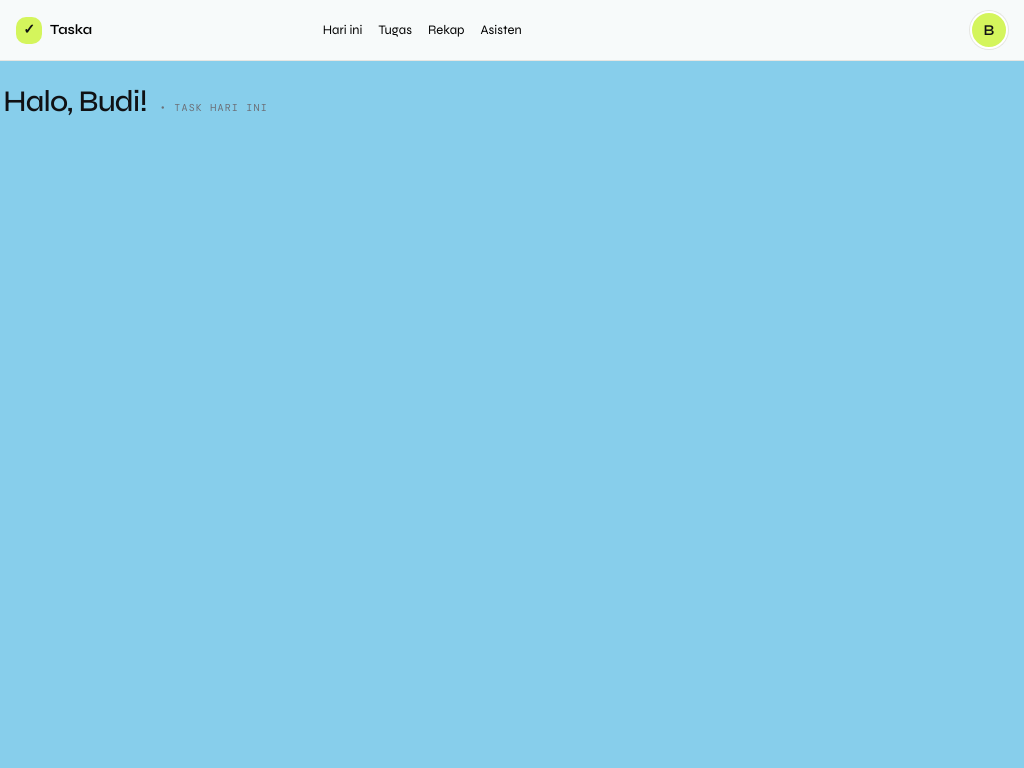
Dashboard › Pengaturan profil membuka dialog berisi nama dan alamat email
This screenshot has width=1024, height=768.
Click the button named "menu profil".
click(989, 30)  # box x1=970 y1=11 x2=1008 y2=49
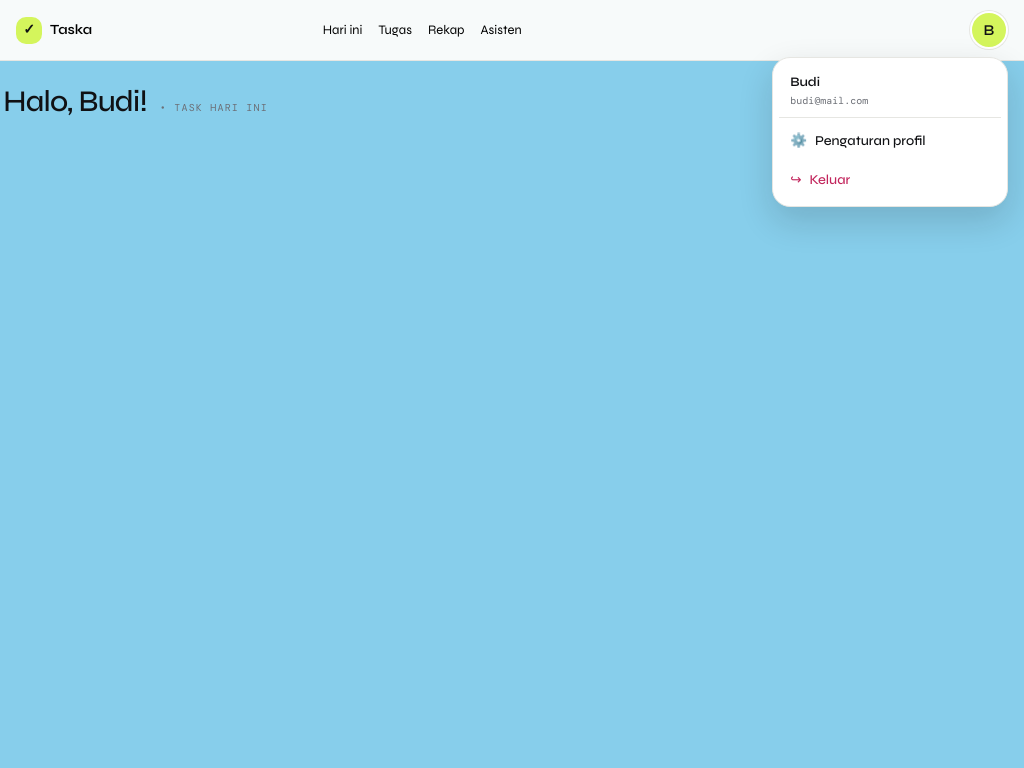
Click the menu item "⚙️ Pengaturan profil".
click(890, 142)  # box x1=779 y1=122 x2=1001 y2=161
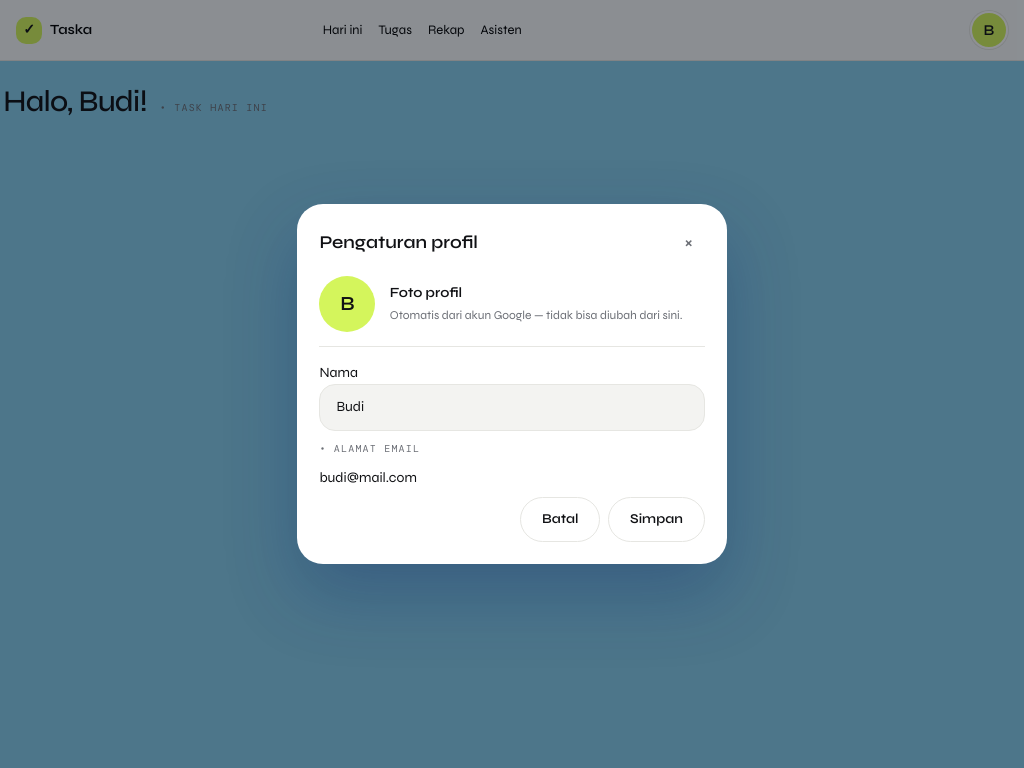
Check: the dialog "Pengaturan profil" shows "budi@mail.com", box x1=319 y1=469 x2=417 y2=486
Check: the field labelled "Nama" holds "Budi", box x1=319 y1=384 x2=705 y2=431
